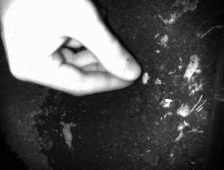corn: (140, 70, 151, 86)
